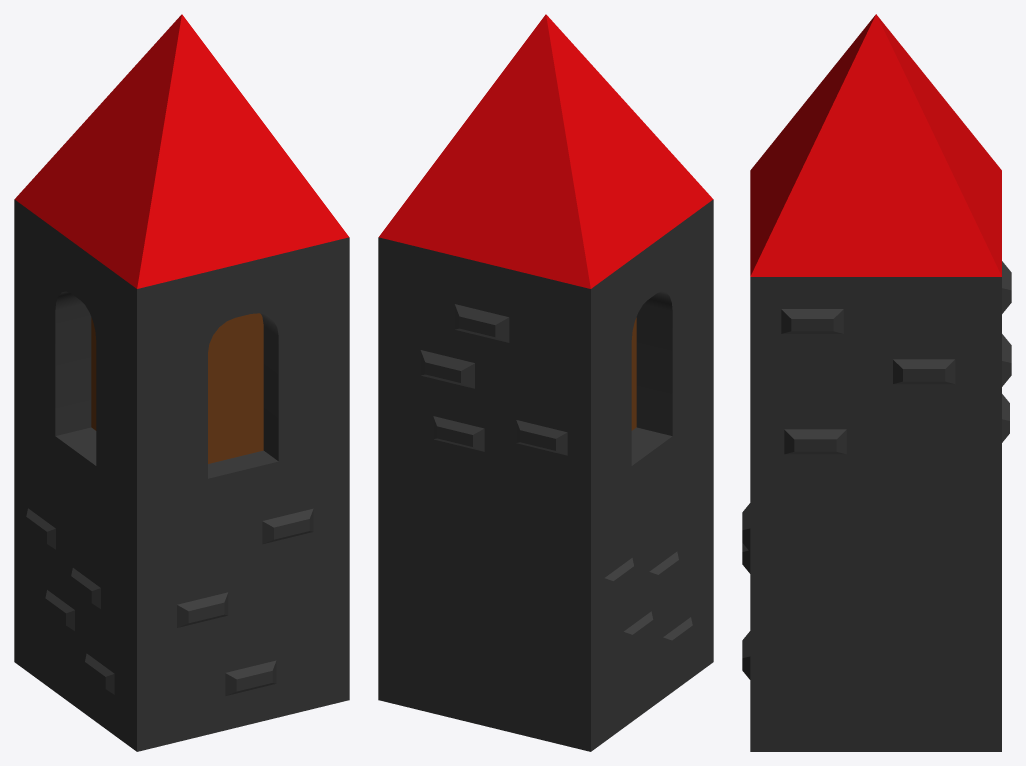
File: tower.fbx
The picture shows the model from 3 angles, left to right: view 1: azimuth 30°, elevation 25°; view 2: azimuth 150°, elevation 25°; view 3: azimuth 270°, elevation 25°; orthographic projection. The views are drawn at different scales.
Visible parts, largest first — view 1: tower; view 2: tower; view 3: tower.
Boxes of the visible parts, <box> form: tower: <box>14,14,349,751</box>; tower: <box>378,14,713,751</box>; tower: <box>742,14,1011,751</box>.
Bounding box in the file's own units: 18.55 × 52.53 × 18.71.
